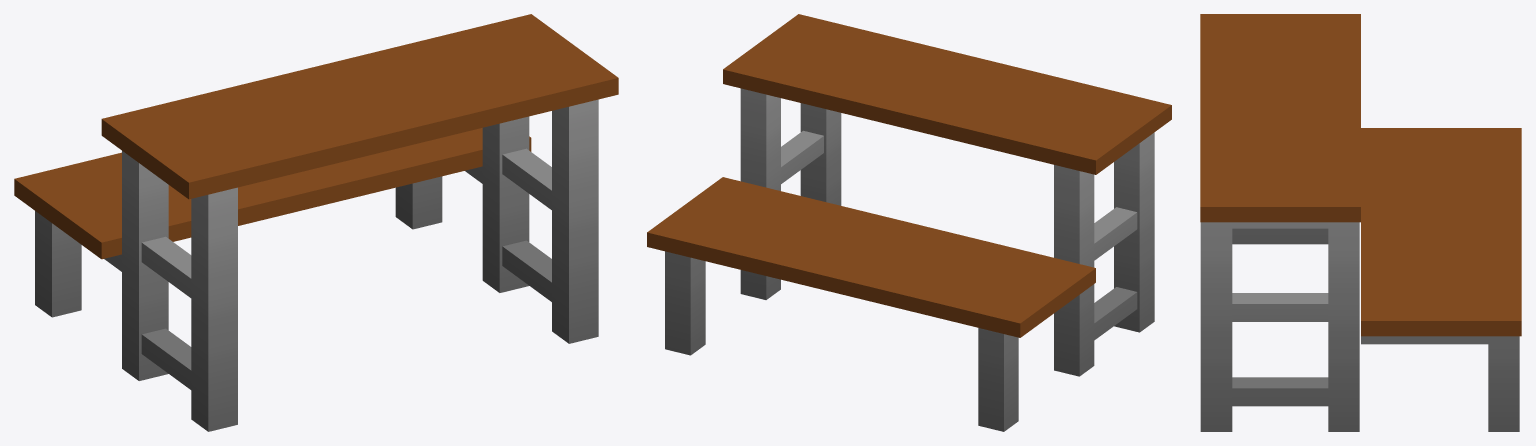
Rendered from Bench_1_A_6.fbx.
3 views of the same model, side by side, from view 1: azimuth 30°, elevation 25°; view 2: azimuth 150°, elevation 25°; view 3: azimuth 270°, elevation 25° (orthographic). The views are drawn at different scales.
Parts seen in each view (by area): view 1: Bench_1_A_6; view 2: Bench_1_A_6; view 3: Bench_1_A_6.
Part boxes in pixels (<box>): Bench_1_A_6: <box>14,14,618,431</box>; Bench_1_A_6: <box>647,14,1171,431</box>; Bench_1_A_6: <box>1200,14,1521,431</box>.
Size of the model in its own units: 116 by 65.4 by 81.37.
